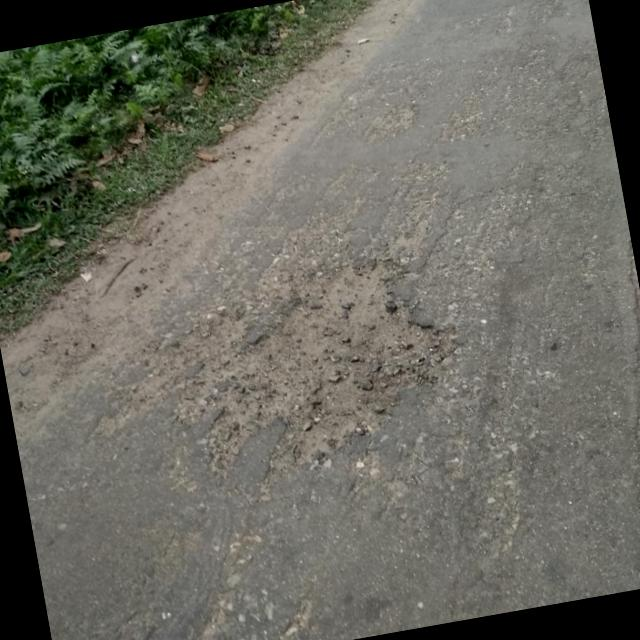Lubang: (224, 244, 452, 466)
